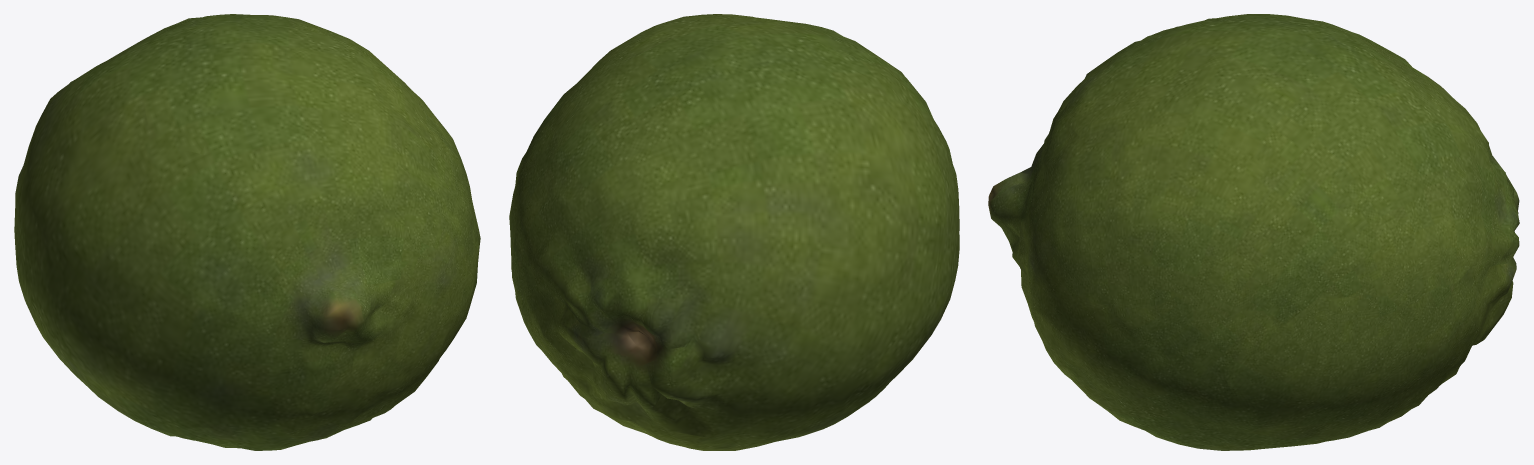
Rendered from lime.glb.
3 views of the same model, side by side, from view 1: azimuth 30°, elevation 25°; view 2: azimuth 150°, elevation 25°; view 3: azimuth 270°, elevation 25° (orthographic). The views are drawn at different scales.
Visible parts, largest first — view 1: lime; view 2: lime; view 3: lime.
Boxes of the visible parts, x1,y1,x2,y2 form: lime: (14, 14, 480, 450); lime: (509, 14, 959, 450); lime: (988, 14, 1519, 450).
Bounding box in the file's own units: 0.0636 × 0.0612 × 0.0748.
1 material, 1 textured.
